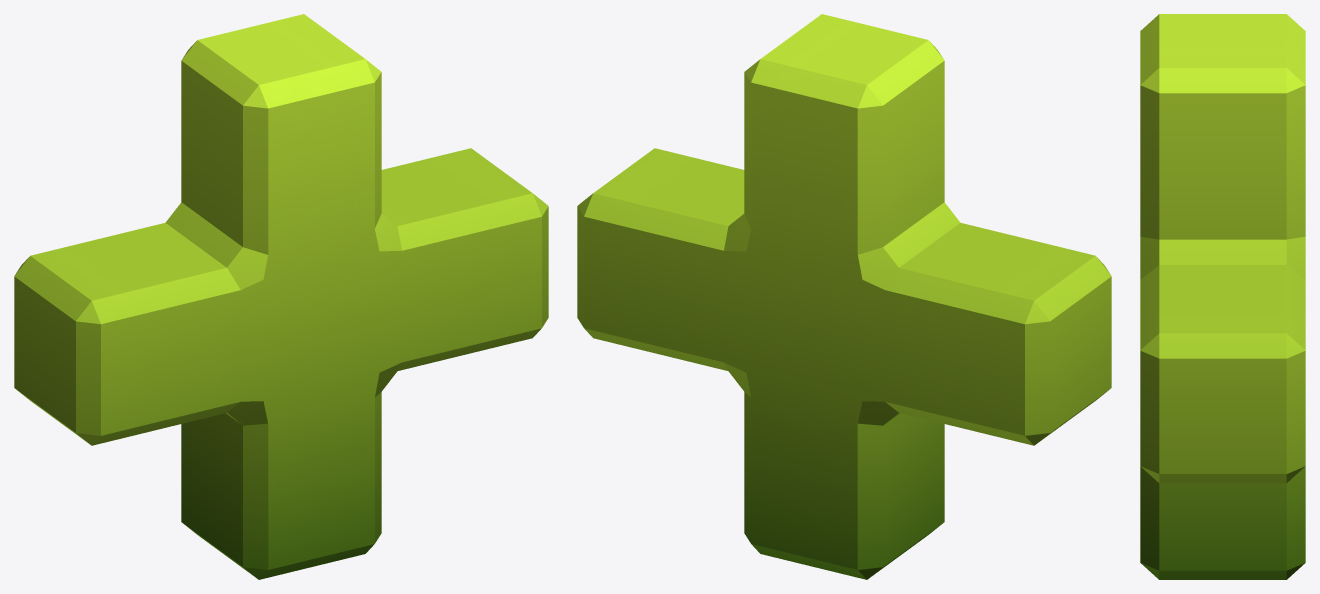
File: item_002.fbx
3 renders of one model, left to right at view 1: azimuth 30°, elevation 25°; view 2: azimuth 150°, elevation 25°; view 3: azimuth 270°, elevation 25°, orthographic. The views are drawn at different scales.
Parts seen in each view (by area): view 1: item.002; view 2: item.002; view 3: item.002.
Boxes of the visible parts, left/top/right/bottom form: item.002: left=14, top=14, right=548, bottom=579; item.002: left=577, top=14, right=1111, bottom=579; item.002: left=1140, top=14, right=1305, bottom=579.
Bounding box in the file's own units: 180 × 180 × 52.8.
